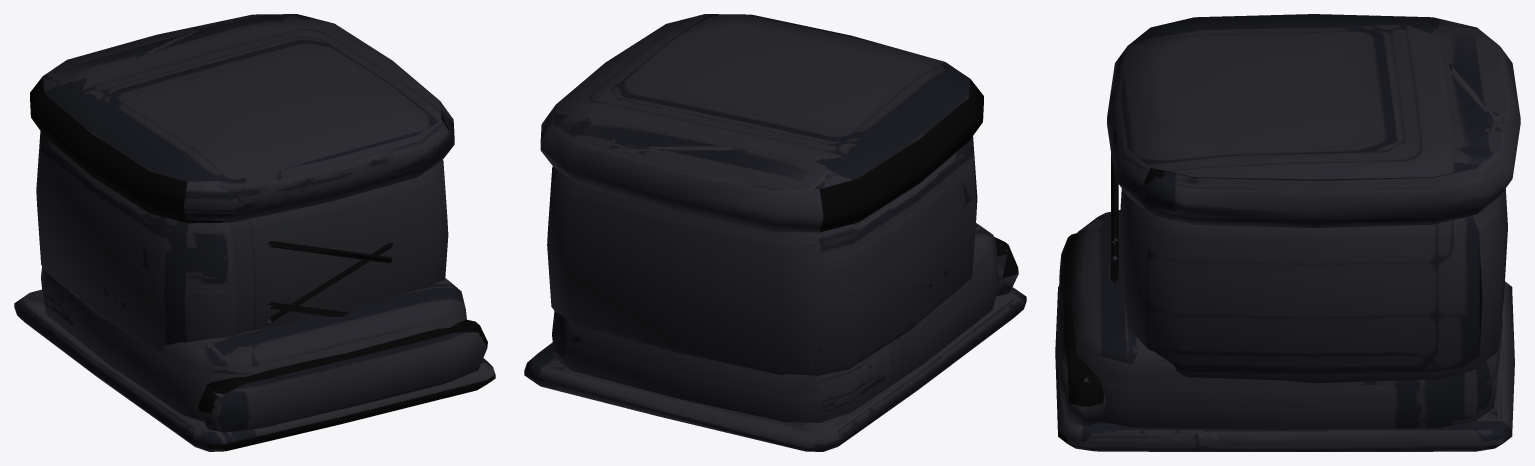
Rendered from Albatros_BotaDer.fbx.
3 renders of one model, left to right at view 1: azimuth 30°, elevation 25°; view 2: azimuth 150°, elevation 25°; view 3: azimuth 270°, elevation 25°, orthographic. The views are drawn at different scales.
Parts seen in each view (by area): view 1: Albatros_BotaDer; view 2: Albatros_BotaDer; view 3: Albatros_BotaDer.
Boxes of the visible parts, <box> form: Albatros_BotaDer: <box>14,14,495,451</box>; Albatros_BotaDer: <box>524,14,1026,451</box>; Albatros_BotaDer: <box>1055,14,1520,451</box>.
Size of the model in its own units: 1.57 by 1.21 by 1.74.
